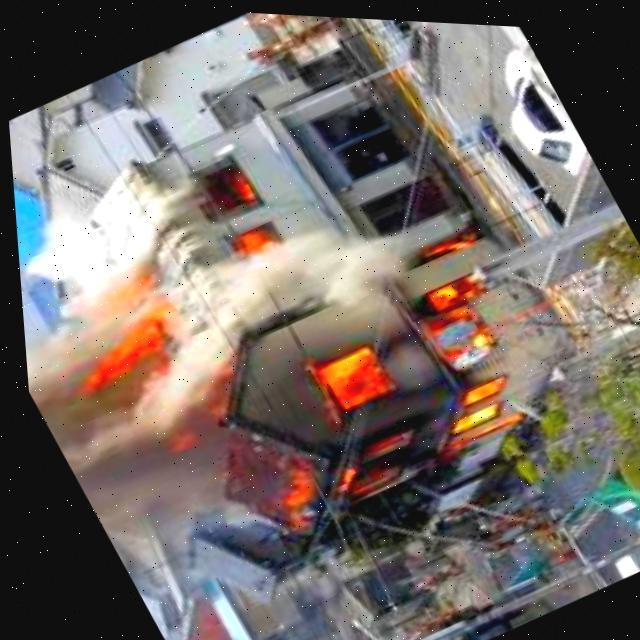Fire: (40, 261, 192, 396), (225, 419, 347, 555), (306, 339, 389, 416), (415, 260, 481, 309), (411, 220, 475, 265), (437, 393, 497, 437), (226, 213, 283, 258), (217, 161, 260, 210), (458, 372, 497, 399)
Smoke: (9, 153, 322, 563)
